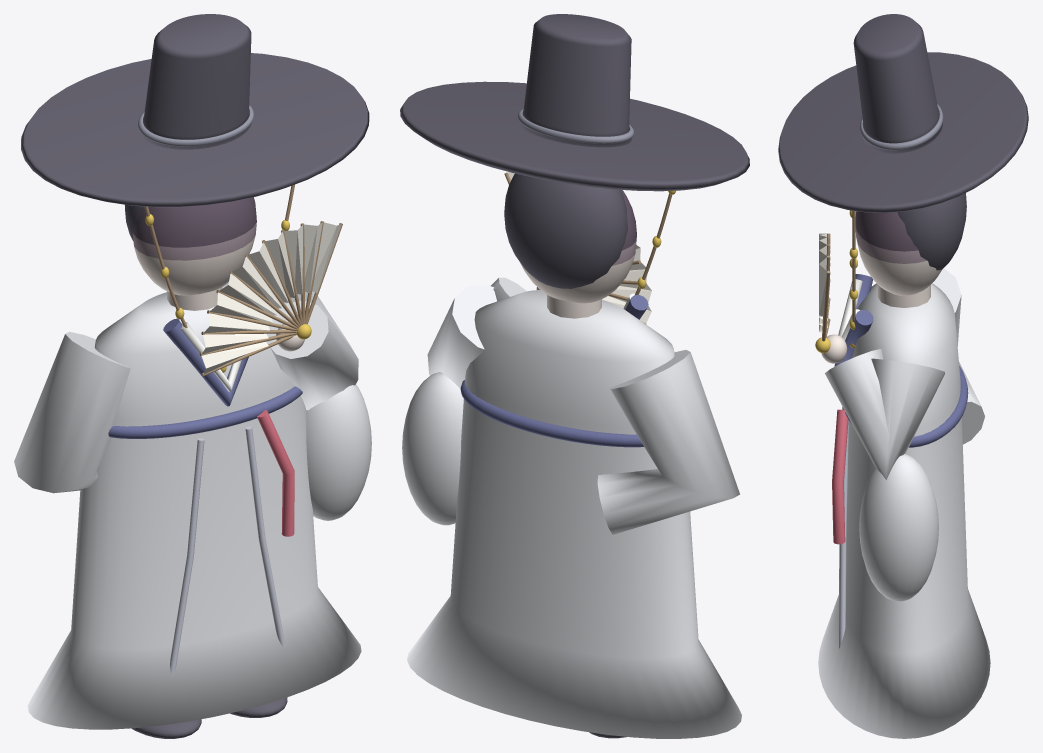
Rendered from conch_jeonwoochi_a_behind_3_1.glb.
The picture shows the model from 3 angles, left to right: view 1: azimuth 30°, elevation 25°; view 2: azimuth 150°, elevation 25°; view 3: azimuth 270°, elevation 25°; orthographic projection. The views are drawn at different scales.
Size of the model in its own units: 28.25 by 55.23 by 18.85.
